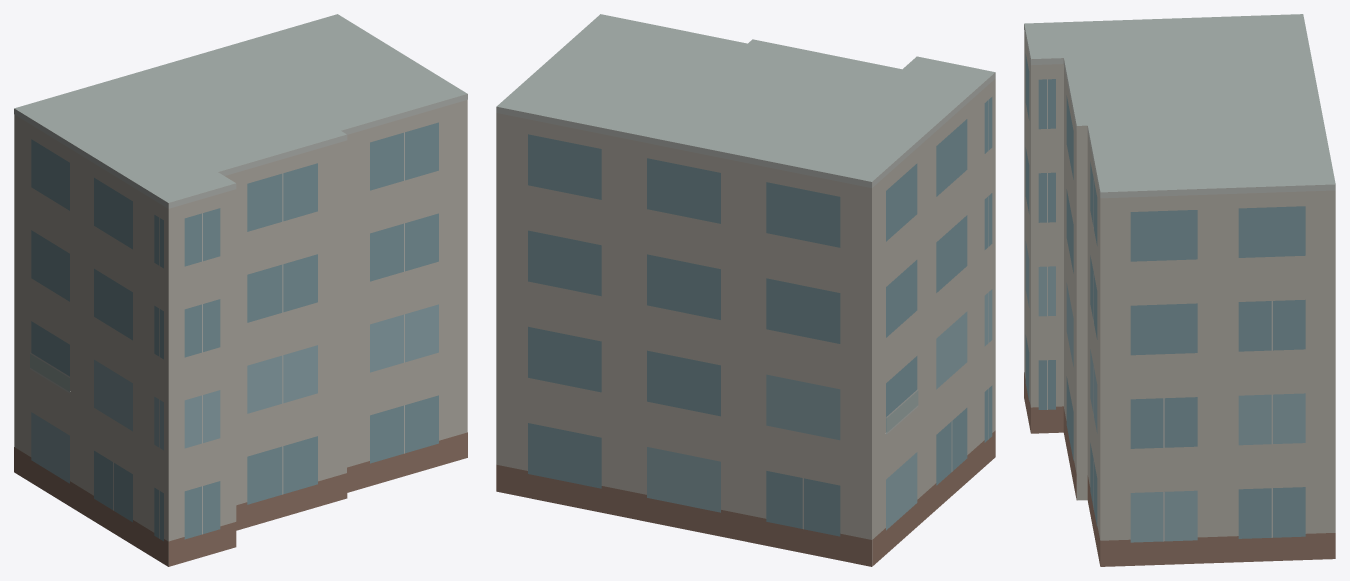
Rendered from survey-upis-32555868.glb.
3 renders of one model, left to right at view 1: azimuth 30°, elevation 25°; view 2: azimuth 150°, elevation 25°; view 3: azimuth 270°, elevation 25°, orthographic. The views are drawn at different scales.
Parts seen in each view (by area): view 1: survey-upis-32555868.tmp; view 2: survey-upis-32555868.tmp; view 3: survey-upis-32555868.tmp.
Part boxes in pixels (<box>): survey-upis-32555868.tmp: <box>14,14,467,566</box>; survey-upis-32555868.tmp: <box>496,14,995,566</box>; survey-upis-32555868.tmp: <box>1024,14,1335,566</box>.
Size of the model in its own units: 15.43 by 15.1 by 11.4.
